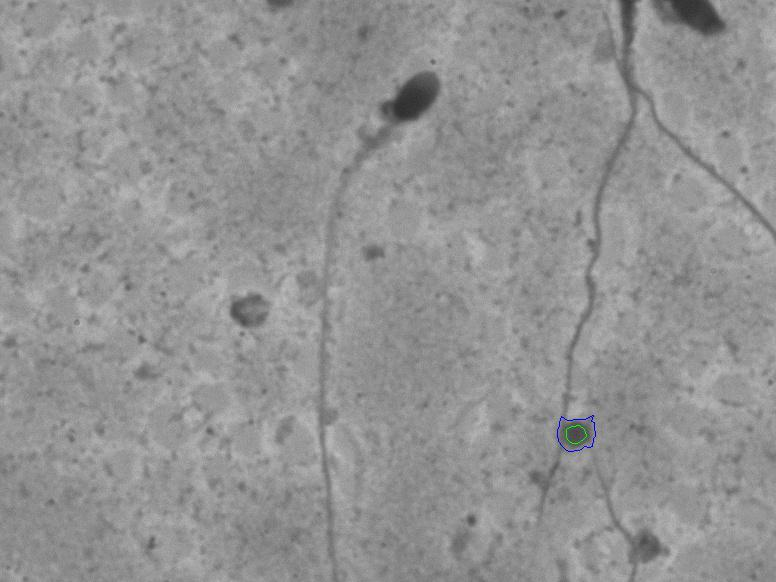Normal: (306, 47, 475, 580)
